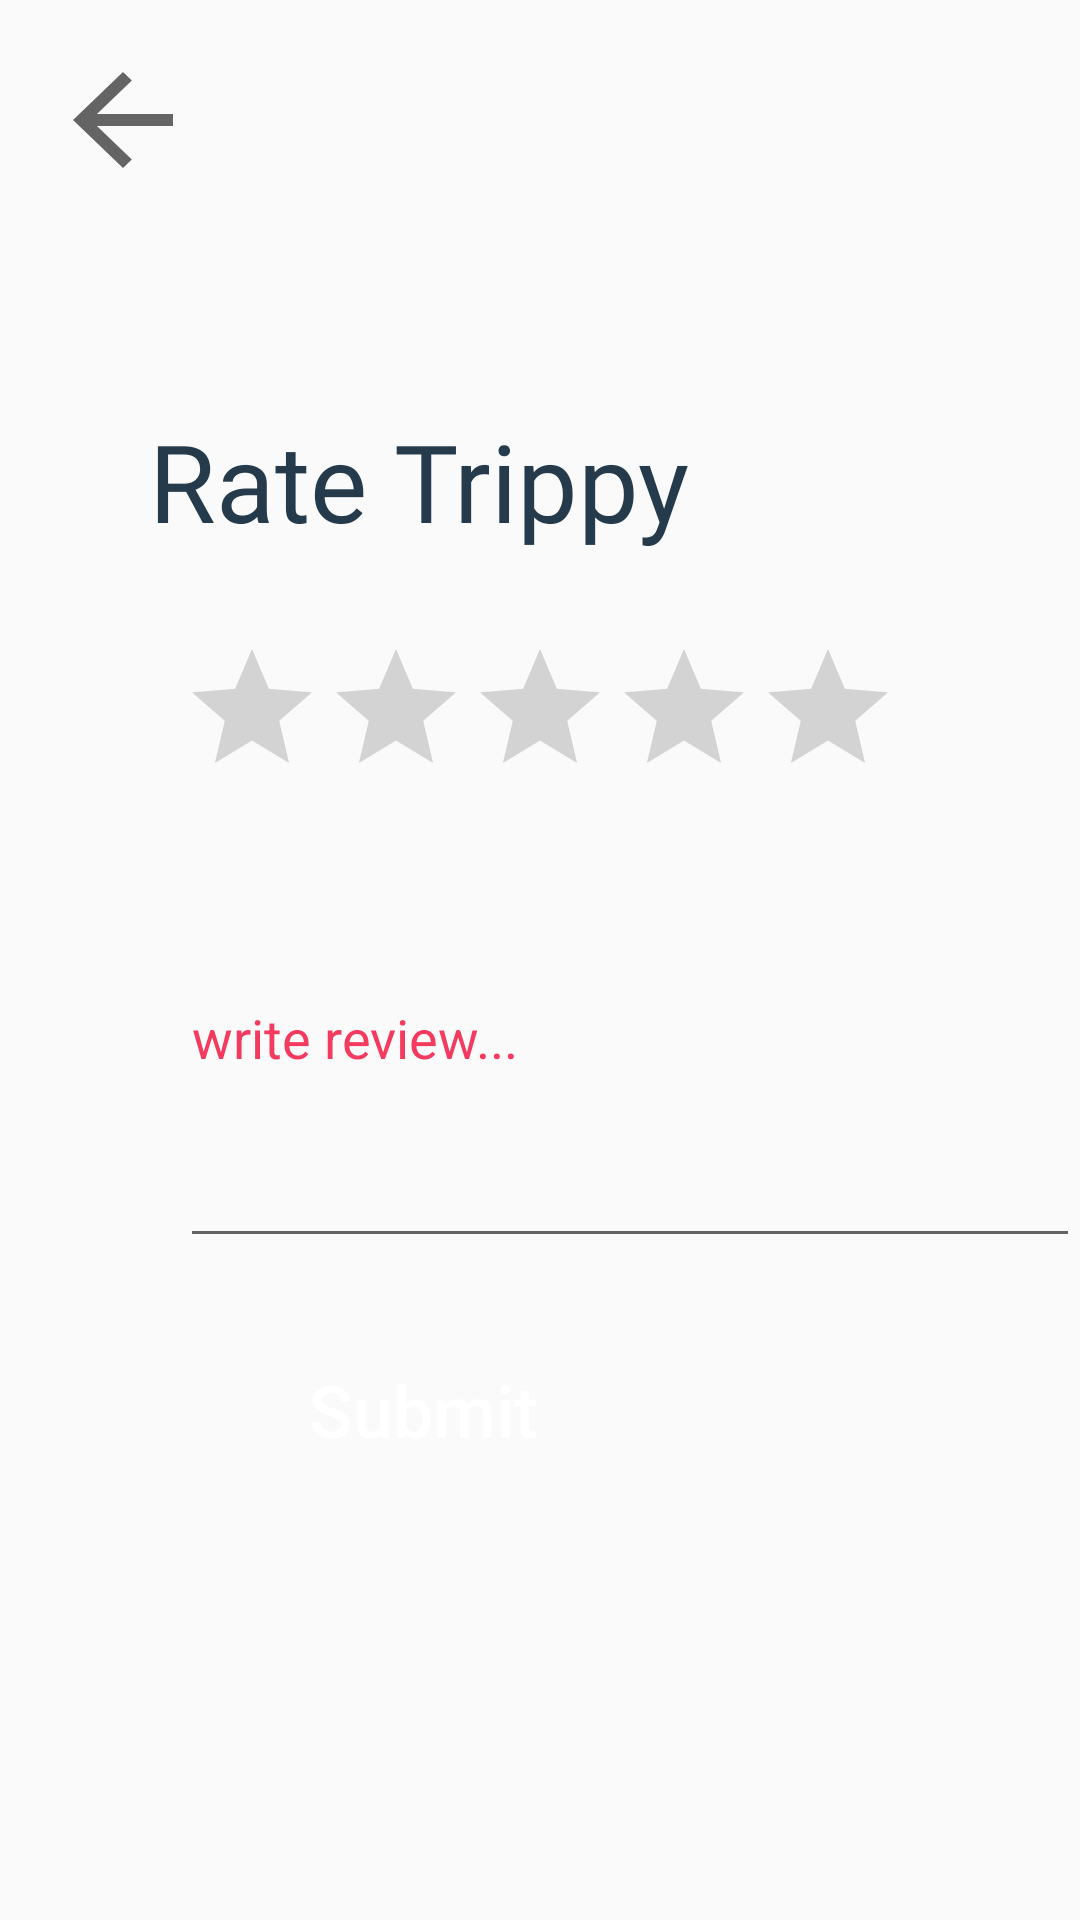

Screen size 1080*1920. Icon name, then its box in pixels as [left=x1, top=y1, right=x2, bottom=y2]:
arrow back: [left=73, top=72, right=173, bottom=168]
